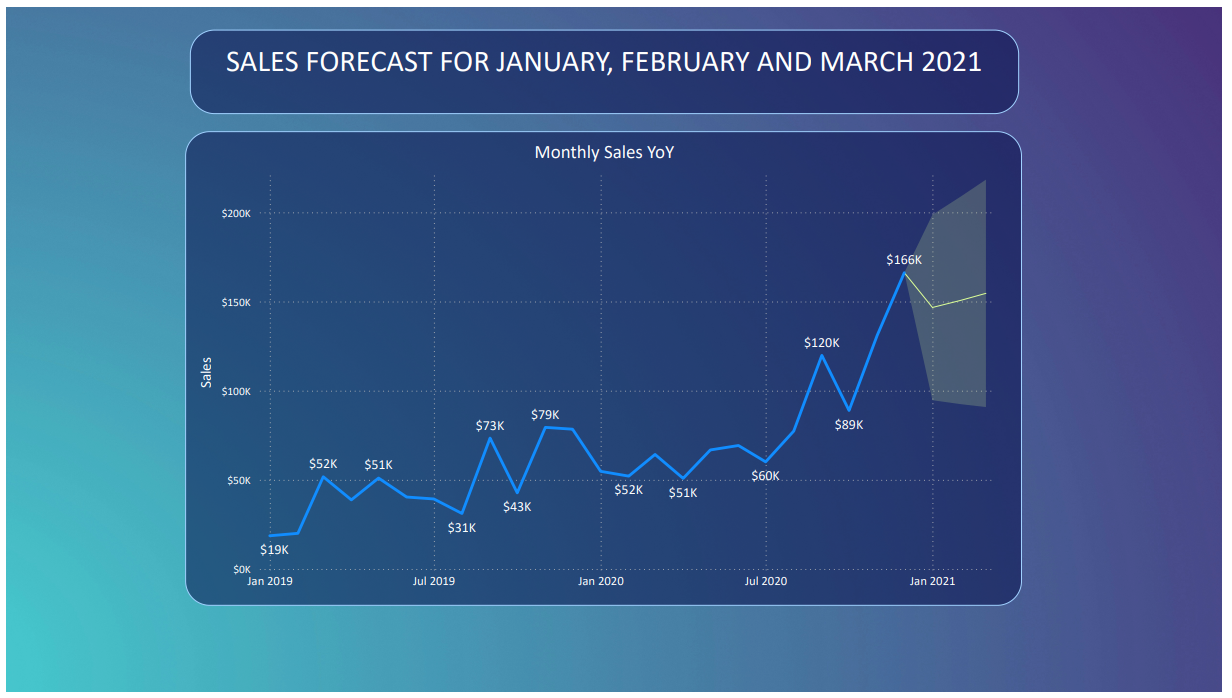

Layout of this report page (visuals, bound fields, positions):
{"tool":"powerbi","page":{"name":"Sales Forecast","canvas":[1280,720],"ordinal":1},"visuals":[{"type":"lineChart","title":"Monthly Sales YoY","fields":{"Category":["Sheet1.Order Date.Variation.Date Hierarchy.Year","Sheet1.Order Date.Variation.Date Hierarchy.Month"],"Y":["Sum(Sheet1.Sales)"]},"box":[188.3,130,881.7,500],"z":4000},{"type":"textbox","box":[193.3,23.3,873.3,88.3],"z":10000}]}

Visuals, with their boxes in screenshot pixels (x1, y1, x2, y2), scaled from the page's 1280x720 canvas onto the 1232x698 screenshot:
"Monthly Sales YoY" lineChart: 181 126 1030 611
textbox: 186 23 1027 108
